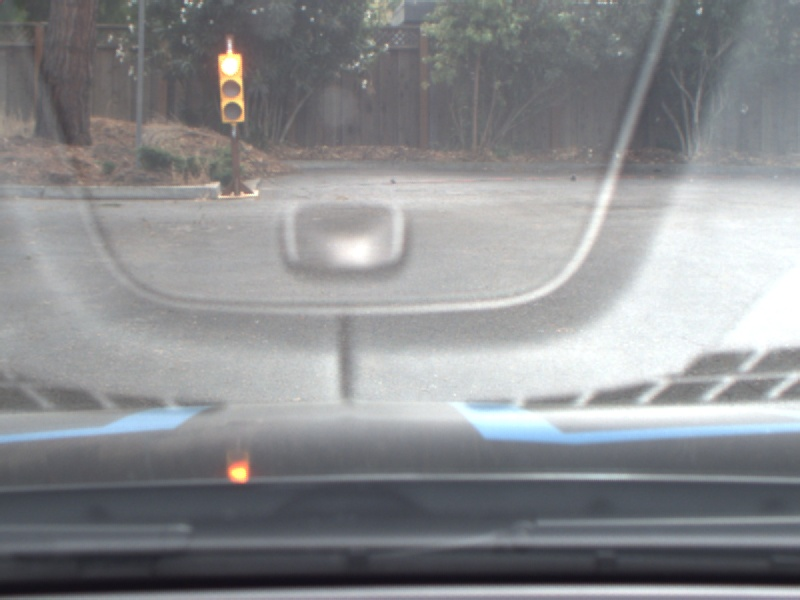red: (213, 50, 249, 127)
